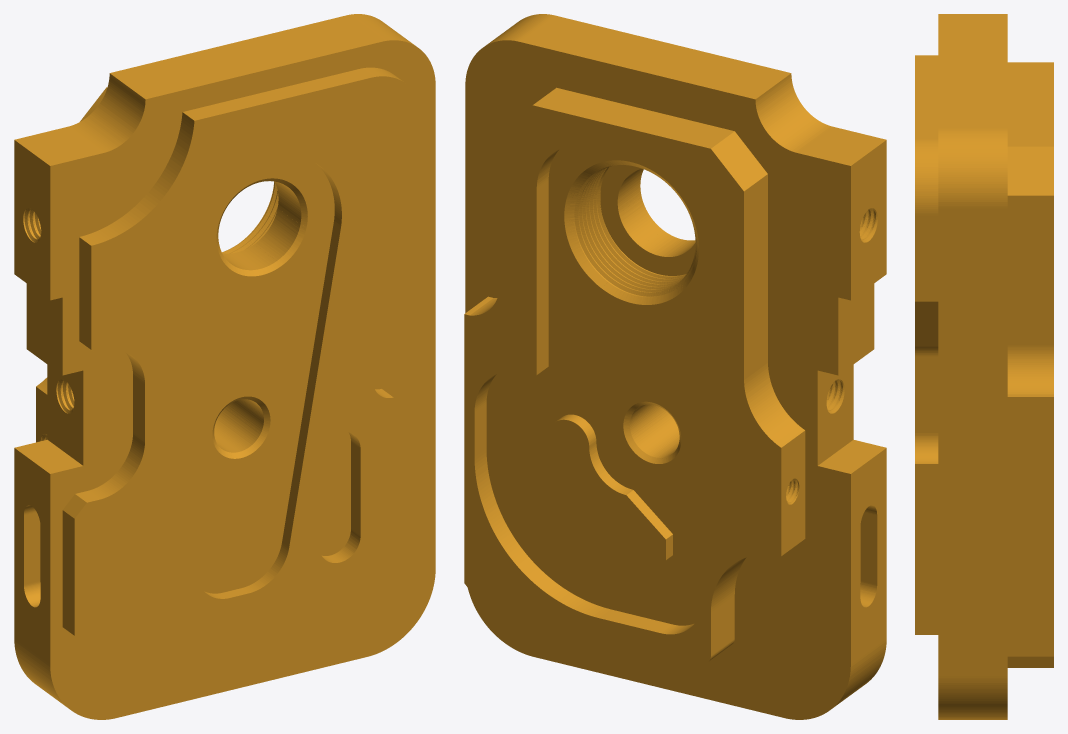
The picture shows the model from 3 angles, left to right: view 1: azimuth 30°, elevation 25°; view 2: azimuth 150°, elevation 25°; view 3: azimuth 270°, elevation 25°; orthographic projection. The views are drawn at different scales.
Bounding box in the file's own units: 93 × 141 × 30.
